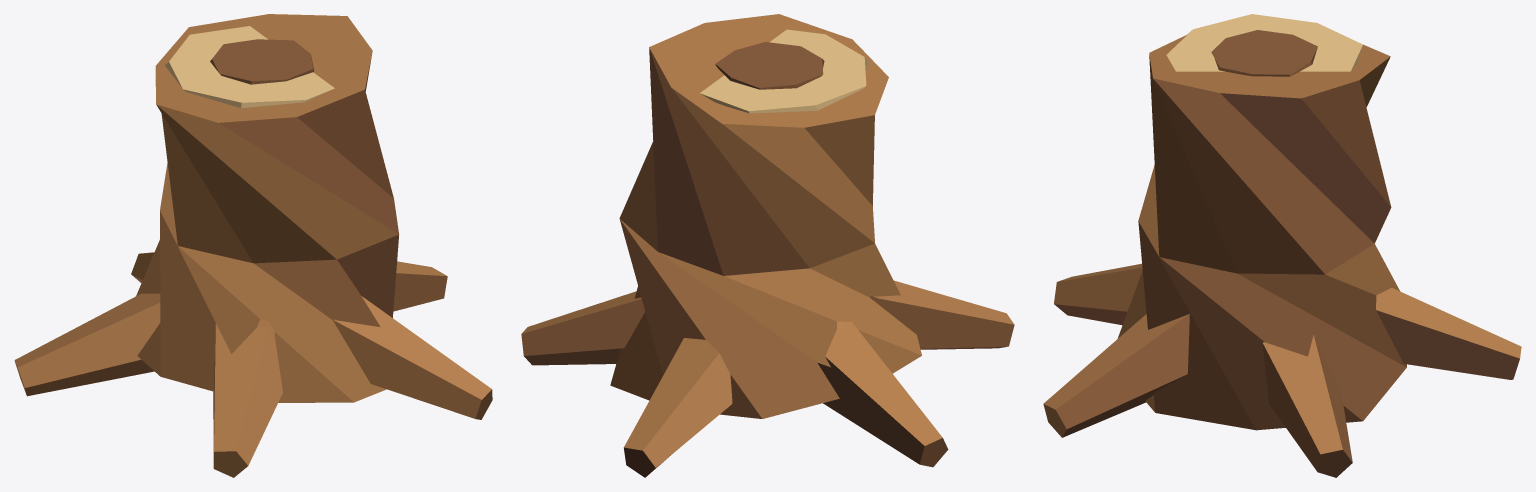
Rendered from TocoRaizes.fbx.
3 views of the same model, side by side, from view 1: azimuth 30°, elevation 25°; view 2: azimuth 150°, elevation 25°; view 3: azimuth 270°, elevation 25° (orthographic). The views are drawn at different scales.
Visible parts, largest first — view 1: TocoRaizes_Solido_3, TocoRaizes_Solido_2, TocoRaizes_Solido_4; view 2: TocoRaizes_Solido_3, TocoRaizes_Solido_2, TocoRaizes_Solido_1, TocoRaizes_Solido_4; view 3: TocoRaizes_Solido_2, TocoRaizes_Solido_3, TocoRaizes_Solido_1, TocoRaizes_Solido_4.
Part boxes in pixels (box(x1,y1,x2,y2)): TocoRaizes_Solido_3: box(14, 14, 491, 477); TocoRaizes_Solido_2: box(15, 39, 492, 457); TocoRaizes_Solido_4: box(165, 26, 334, 108); TocoRaizes_Solido_3: box(522, 14, 1014, 467); TocoRaizes_Solido_2: box(521, 42, 1014, 475); TocoRaizes_Solido_1: box(524, 48, 1006, 477); TocoRaizes_Solido_4: box(700, 29, 868, 113); TocoRaizes_Solido_2: box(1043, 30, 1406, 471); TocoRaizes_Solido_3: box(1043, 35, 1521, 454); TocoRaizes_Solido_1: box(1054, 93, 1519, 477); TocoRaizes_Solido_4: box(1166, 14, 1362, 71).
Size of the model in its own units: 350 by 258 by 338.
